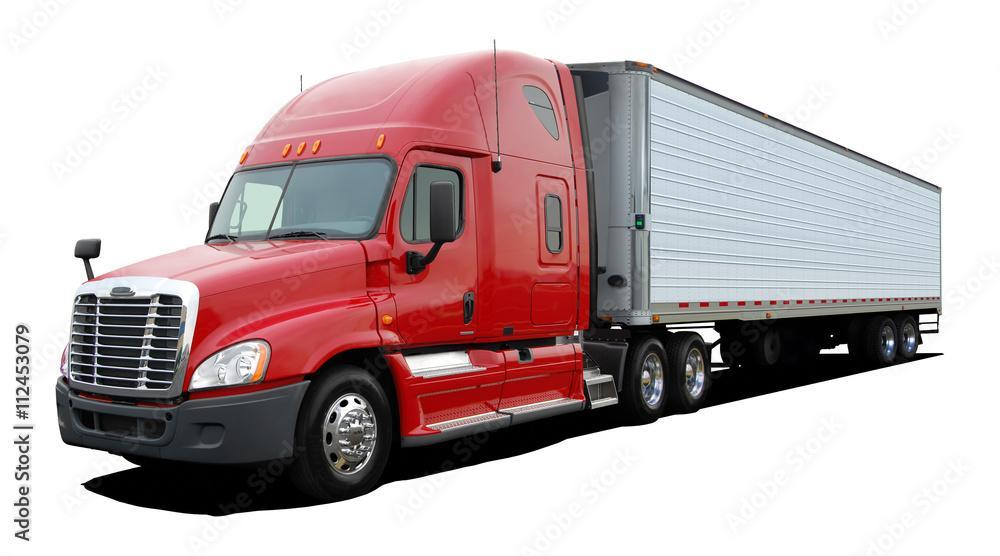truck: (56, 40, 963, 483)
